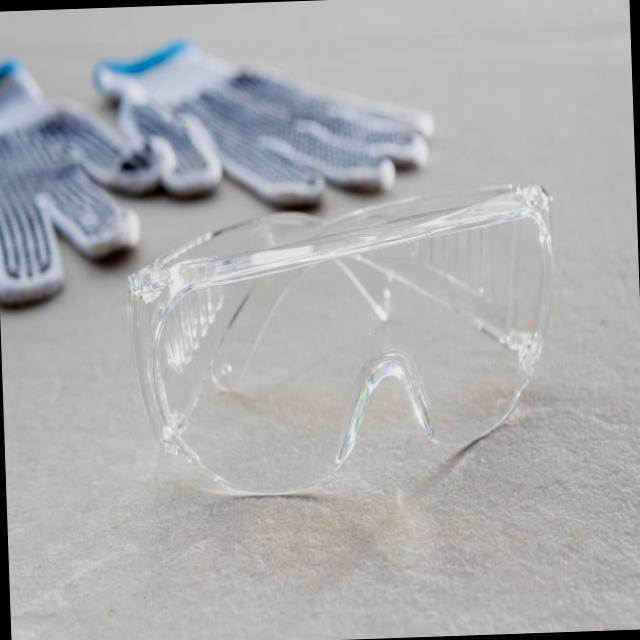goggles: (126, 161, 584, 530)
